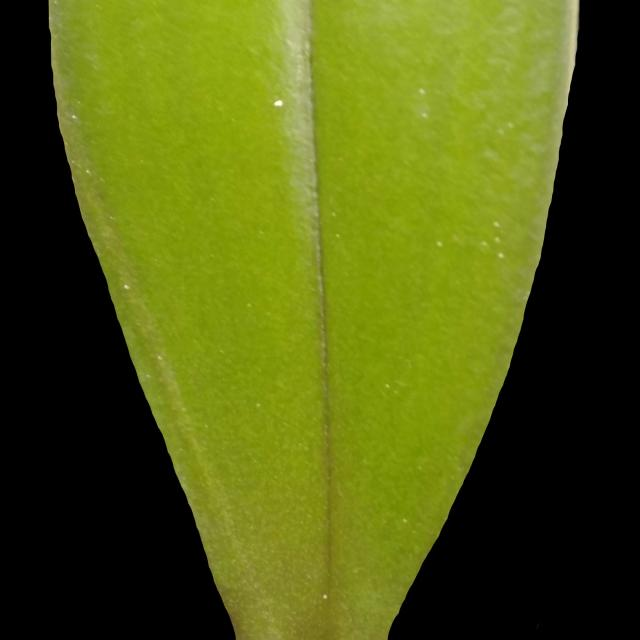mite: (264, 83, 512, 268), (408, 81, 514, 265), (264, 83, 435, 122), (429, 216, 512, 264), (257, 83, 298, 123), (479, 216, 510, 263), (413, 83, 432, 122), (267, 91, 288, 113), (314, 585, 334, 607), (429, 233, 448, 254), (117, 275, 134, 296), (418, 106, 430, 120), (272, 97, 284, 109), (319, 590, 330, 603), (416, 85, 427, 97), (479, 237, 489, 250), (121, 281, 131, 292), (434, 238, 444, 249), (492, 218, 502, 229), (400, 515, 410, 526), (496, 249, 506, 260), (492, 233, 502, 244), (69, 112, 78, 122), (321, 592, 328, 600)
spots: (47, 1, 580, 636)
